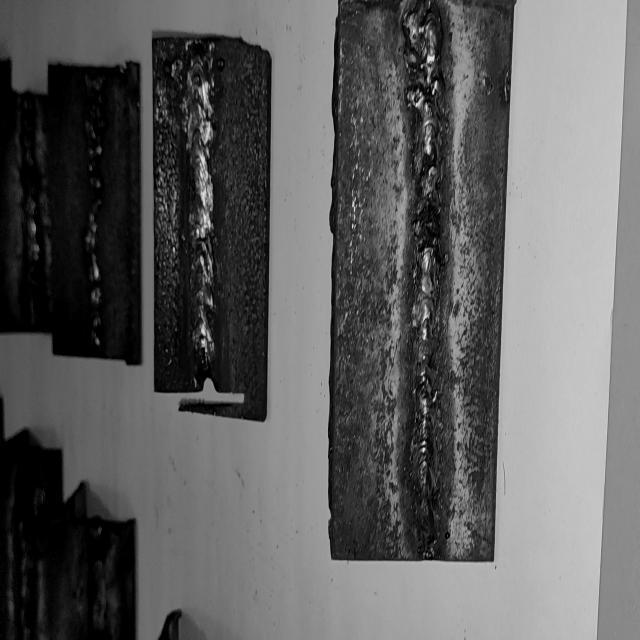Defect: (403, 24, 447, 122), (400, 171, 448, 256), (13, 462, 55, 534)
Welding Line: (407, 12, 439, 556), (188, 41, 218, 383), (86, 75, 105, 346), (24, 100, 38, 320), (90, 530, 106, 640), (18, 519, 29, 640)
Workpiece: (330, 0, 518, 564), (152, 39, 266, 420), (50, 62, 141, 362), (1, 89, 54, 334), (2, 449, 60, 640), (56, 521, 132, 640)
